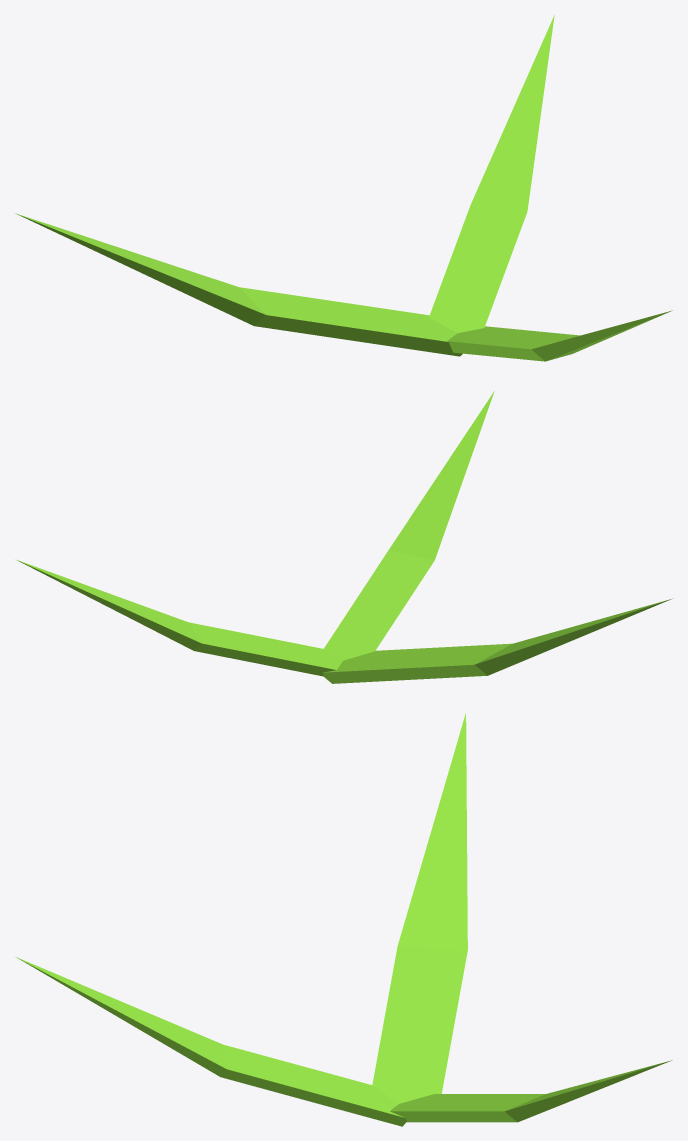
The model's file is Grass_34.fbx.
3 renders of one model, top to bottom at view 1: azimuth 30°, elevation 25°; view 2: azimuth 150°, elevation 25°; view 3: azimuth 270°, elevation 25°, orthographic. The views are drawn at different scales.
Visible parts, largest first — view 1: Grass_34; view 2: Grass_34; view 3: Grass_34.
Boxes of the visible parts, left/top/right/bottom form: Grass_34: left=15, top=15, right=672, bottom=361; Grass_34: left=16, top=390, right=672, bottom=683; Grass_34: left=16, top=713, right=672, bottom=1126.
Bounding box in the file's own units: 96.52 × 30.39 × 86.26.
